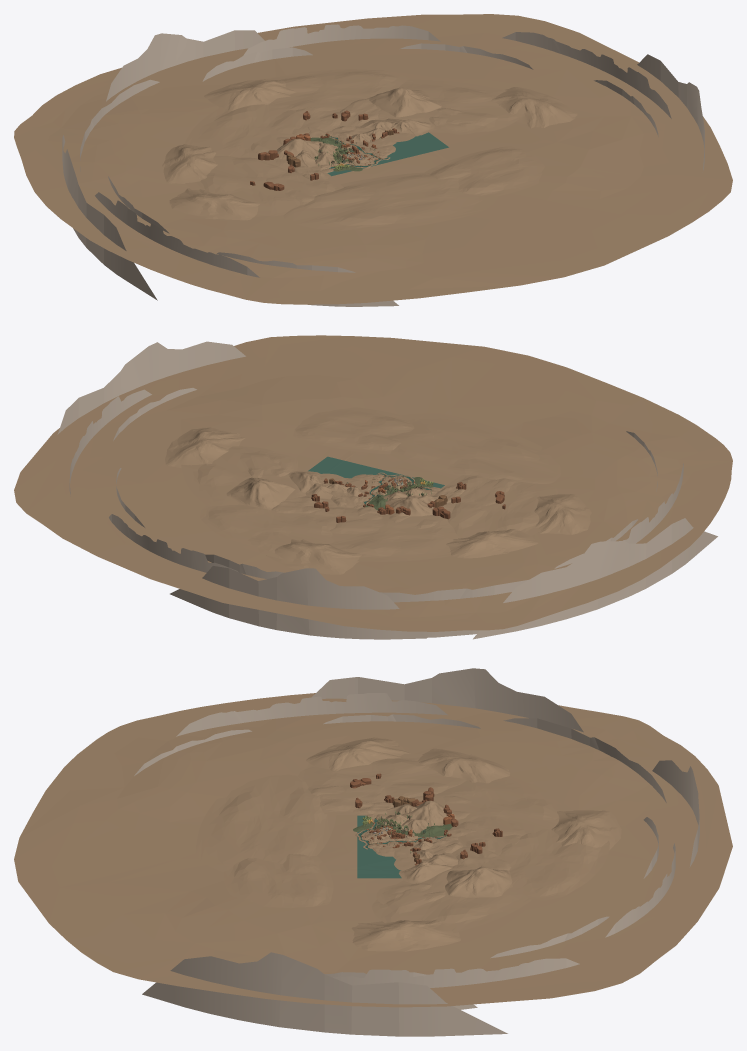
Rendered from Comanche_tribe.glb.
The picture shows the model from 3 angles, top to bottom: view 1: azimuth 30°, elevation 25°; view 2: azimuth 150°, elevation 25°; view 3: azimuth 270°, elevation 25°; orthographic projection. The views are drawn at different scales.
Parts seen in each view (by area): view 1: SM_Env_Mound_Large_02__62_, SM_Env_Mound_Large_02__61_, SM_Env_Mound_Large_02__51_, SM_Env_Mound_Large_02__52_, SM_Env_Mound_Large_02__59_, SM_Env_Mound_Large_02__60_, SM_Env_Mound_Large_02__55_, SM_Env_BackgroundCard_03, SM_Env_BackgroundCard_03__3_, SM_Env_BackgroundCard_02, SM_Env_BackgroundCard_02__2_, SM_Env_Mound_Hill_02__14_ (+16 smaller); view 2: SM_Env_Mound_Large_02__62_, SM_Env_Mound_Large_02__61_, SM_Env_BackgroundCard_03, SM_Env_BackgroundCard_03__3_, SM_Env_Mound_Large_02__51_, SM_Env_BackgroundCard_03__2_, SM_Env_Mound_Large_02__52_, SM_Env_Mound_Large_02__59_, SM_Env_Mound_Large_02__60_, SM_Env_Mound_Large_02__55_, SM_Env_Mound_Hill_02__14_, SM_Env_Mound_Hill_02__13_ (+15 smaller); view 3: SM_Env_Mound_Large_02__62_, SM_Env_BackgroundCard_03__2_, SM_Env_Mound_Large_02__61_, SM_Env_BackgroundCard_03__3_, SM_Env_Mound_Large_02__52_, SM_Env_Mound_Large_02__51_, SM_Env_Mound_Large_02__59_, SM_Env_Mound_Large_02__55_, SM_Env_Mound_Large_02__60_, SM_Env_BackgroundCard_02__3_, SM_Env_BackgroundCard_02__2_, SM_Env_Mound_Hill_02__14_ (+17 smaller).
Boxes of the visible parts, x1=… form: SM_Env_Mound_Large_02__62_: x1=14, y1=14, x2=732, y2=304; SM_Env_Mound_Large_02__61_: x1=283, y1=172, x2=497, y2=232; SM_Env_Mound_Large_02__51_: x1=185, y1=104, x2=305, y2=158; SM_Env_Mound_Large_02__52_: x1=261, y1=69, x2=410, y2=110; SM_Env_Mound_Large_02__59_: x1=425, y1=146, x2=544, y2=196; SM_Env_Mound_Large_02__60_: x1=185, y1=156, x2=316, y2=217; SM_Env_Mound_Large_02__55_: x1=378, y1=79, x2=518, y2=132; SM_Env_BackgroundCard_03: x1=106, y1=30, x2=264, y2=101; SM_Env_BackgroundCard_03__3_: x1=62, y1=135, x2=157, y2=300; SM_Env_BackgroundCard_02: x1=243, y1=24, x2=440, y2=55; SM_Env_BackgroundCard_02__2_: x1=502, y1=32, x2=671, y2=118; SM_Env_Mound_Hill_02__14_: x1=491, y1=87, x2=577, y2=128; SM_Env_Mound_Large_02__62_: x1=14, y1=335, x2=732, y2=631; SM_Env_Mound_Large_02__61_: x1=388, y1=413, x2=560, y2=483; SM_Env_BackgroundCard_03: x1=170, y1=566, x2=426, y2=639; SM_Env_BackgroundCard_03__3_: x1=473, y1=518, x2=717, y2=639; SM_Env_Mound_Large_02__51_: x1=329, y1=515, x2=460, y2=561; SM_Env_BackgroundCard_03__2_: x1=57, y1=341, x2=245, y2=434; SM_Env_Mound_Large_02__52_: x1=200, y1=504, x2=334, y2=559; SM_Env_Mound_Large_02__59_: x1=293, y1=407, x2=414, y2=454; SM_Env_Mound_Large_02__60_: x1=447, y1=479, x2=567, y2=538; SM_Env_Mound_Large_02__55_: x1=181, y1=446, x2=305, y2=506; SM_Env_Mound_Hill_02__14_: x1=165, y1=427, x2=245, y2=467; SM_Env_Mound_Hill_02__13_: x1=266, y1=539, x2=361, y2=574; SM_Env_Mound_Large_02__62_: x1=14, y1=693, x2=732, y2=1007; SM_Env_BackgroundCard_03__2_: x1=142, y1=952, x2=507, y2=1036; SM_Env_Mound_Large_02__61_: x1=196, y1=774, x2=336, y2=871; SM_Env_BackgroundCard_03__3_: x1=311, y1=668, x2=583, y2=732; SM_Env_Mound_Large_02__52_: x1=499, y1=829, x2=609, y2=901; SM_Env_Mound_Large_02__51_: x1=433, y1=776, x2=573, y2=836; SM_Env_Mound_Large_02__59_: x1=223, y1=854, x2=333, y2=908; SM_Env_Mound_Large_02__55_: x1=372, y1=865, x2=531, y2=933; SM_Env_Mound_Large_02__60_: x1=297, y1=754, x2=465, y2=800; SM_Env_BackgroundCard_02__3_: x1=176, y1=693, x2=447, y2=736; SM_Env_BackgroundCard_02__2_: x1=333, y1=958, x2=579, y2=987; SM_Env_Mound_Hill_02__14_: x1=351, y1=919, x2=460, y2=951.
Bounding box in the file's own units: 1527 × 179 × 1465.
8 materials, 4 textured.
